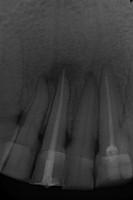Furcation Involvement: (35, 61, 80, 88), (84, 71, 99, 86)
